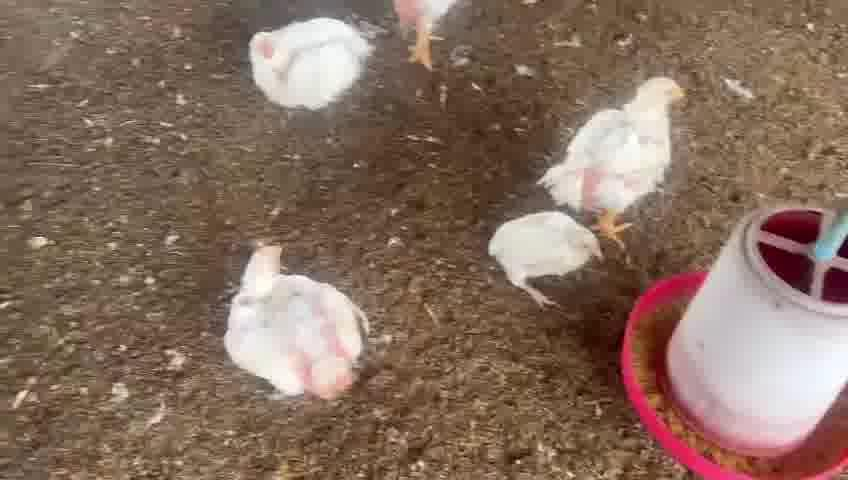AbNormal: (227, 238, 362, 402), (490, 209, 600, 311), (251, 23, 367, 110)
Normal: (560, 75, 683, 243)
